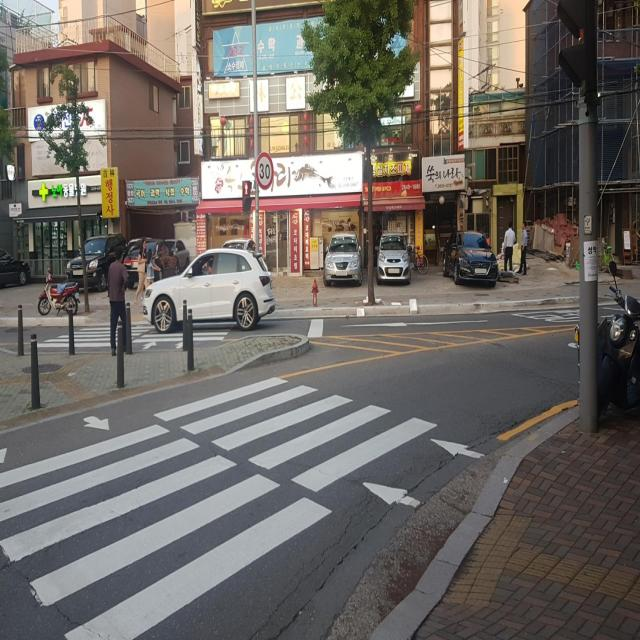빨간불: (243, 181, 252, 212)
횡단보도: (0, 378, 485, 639), (25, 317, 237, 355)
